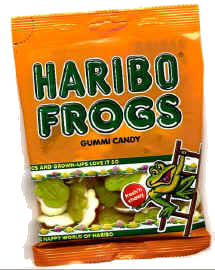grozi_106: (0, 4, 214, 270)
